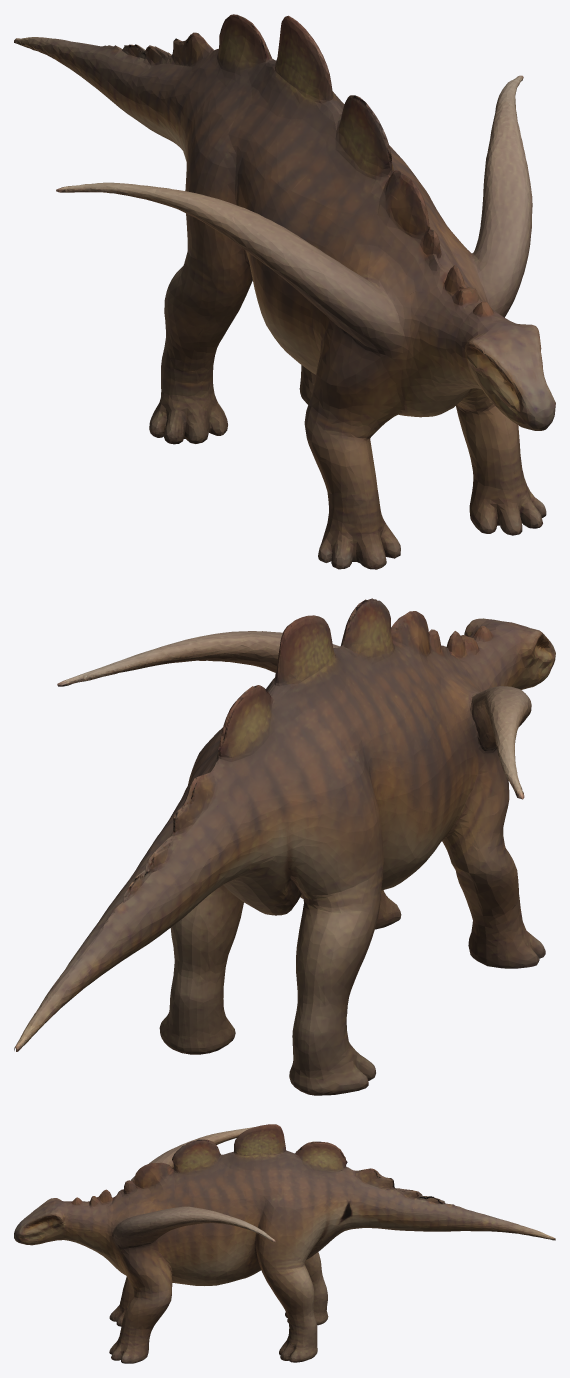
The picture shows the model from 3 angles, top to bottom: view 1: azimuth 30°, elevation 25°; view 2: azimuth 150°, elevation 25°; view 3: azimuth 270°, elevation 25°; orthographic projection. The views are drawn at different scales.
Parts seen in each view (by area): view 1: world; view 2: world; view 3: world.
Boxes of the visible parts, x1,y1,x2,y2 form: world: [14, 14, 555, 569]; world: [14, 598, 555, 1095]; world: [14, 1124, 555, 1363].
Bounding box in the file's own units: 2.14 × 1.83 × 4.2.
1 material, 1 textured.
